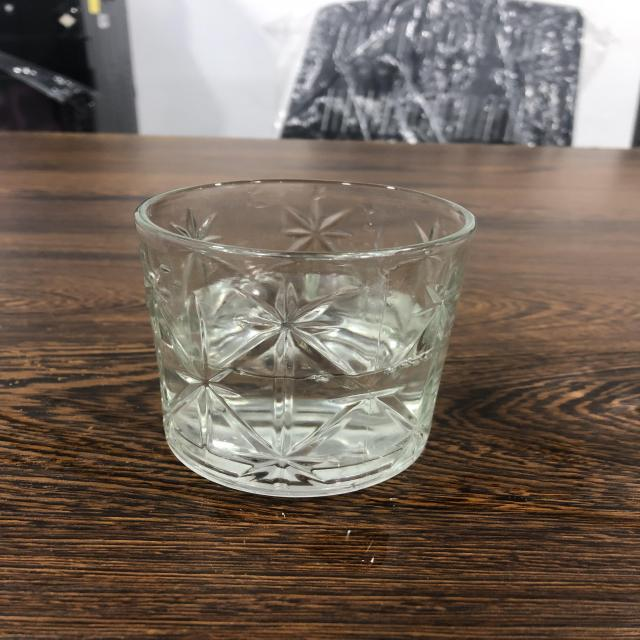glass-normal: (132, 179, 478, 501)
